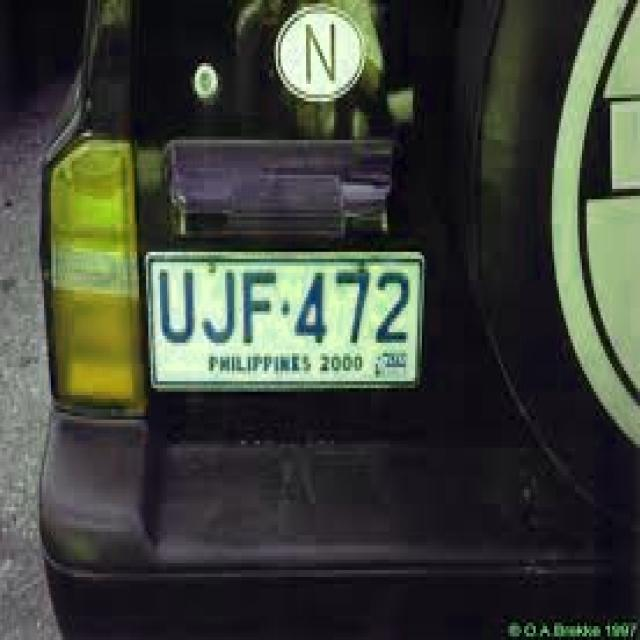Text: (144, 252, 429, 392)
